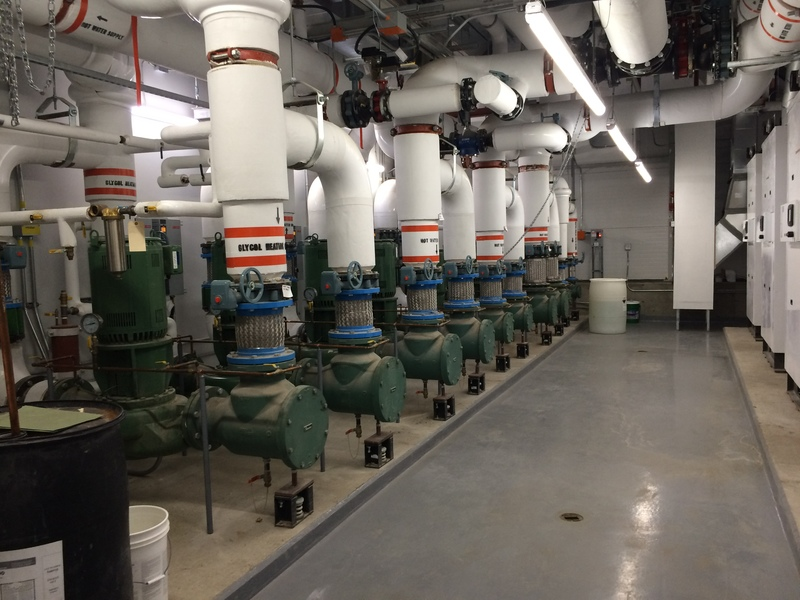valve: (140, 200, 176, 221), (151, 356, 178, 372), (45, 244, 74, 256), (77, 212, 87, 240), (261, 361, 283, 372), (362, 340, 381, 349), (41, 308, 59, 317)
